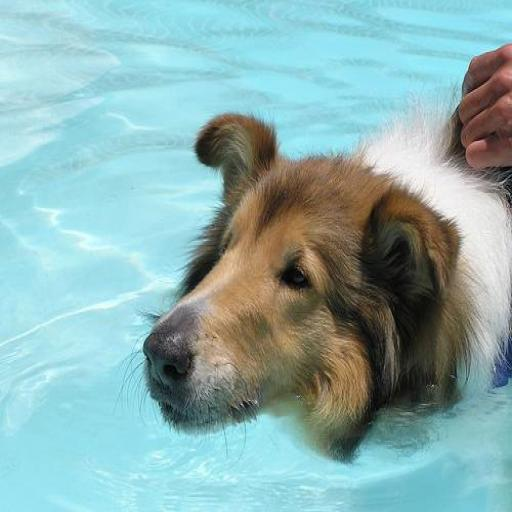dog_face: (141, 105, 466, 449)
